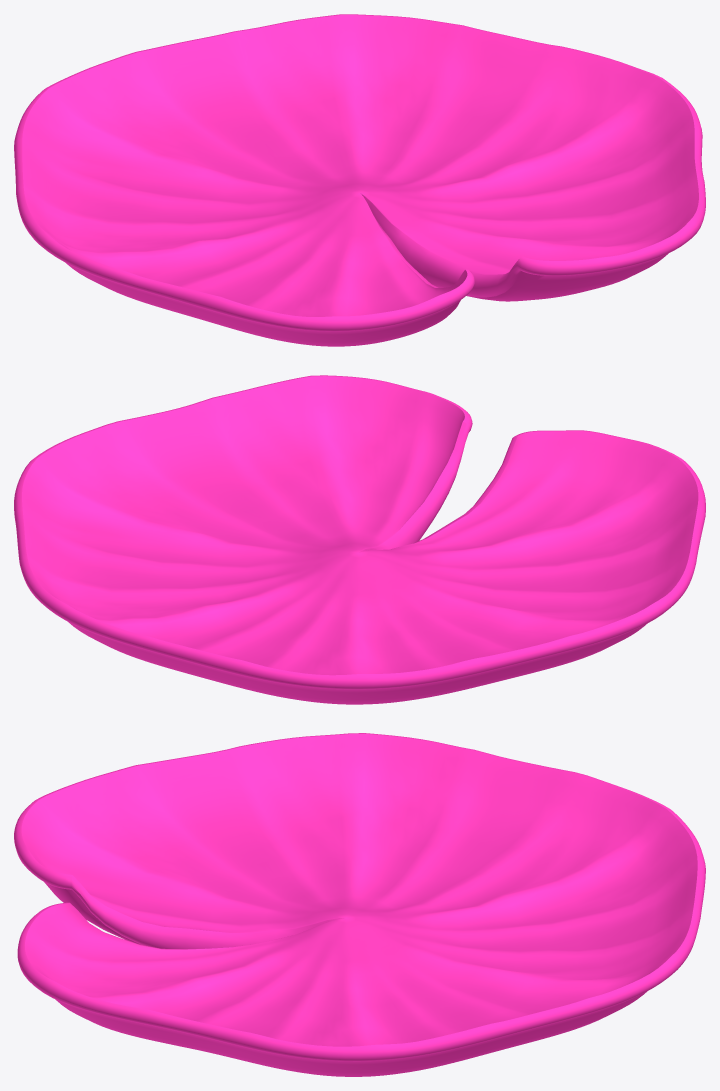
Rendered from LilyPad_Pink.glb.
The picture shows the model from 3 angles, top to bottom: view 1: azimuth 30°, elevation 25°; view 2: azimuth 150°, elevation 25°; view 3: azimuth 270°, elevation 25°; orthographic projection. The views are drawn at different scales.
Parts seen in each view (by area): view 1: LilyPad_Pink; view 2: LilyPad_Pink; view 3: LilyPad_Pink.
Part boxes in pixels (x1,y1,x2,y2): LilyPad_Pink: [14, 14, 705, 346]; LilyPad_Pink: [14, 375, 705, 704]; LilyPad_Pink: [14, 733, 705, 1076].
Bounding box in the file's own units: 2 × 0.3388 × 1.84.
